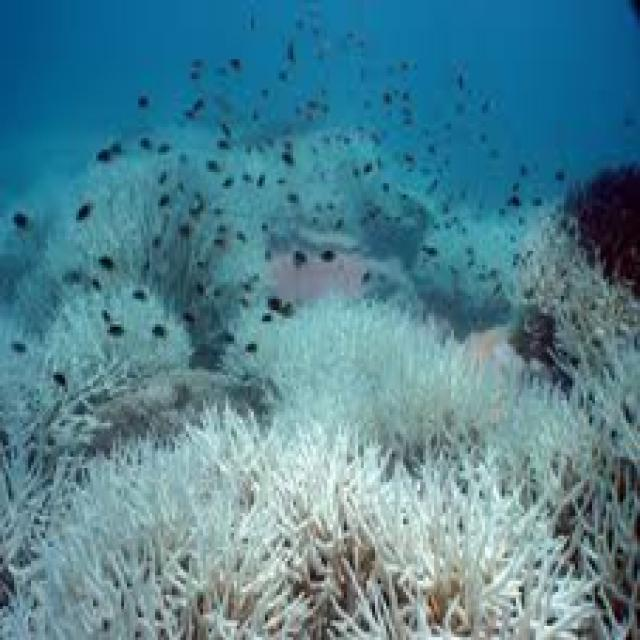Bleached: (1, 418, 599, 638), (4, 145, 272, 328), (227, 297, 506, 438), (4, 289, 207, 418), (523, 218, 638, 444), (494, 393, 613, 514)
